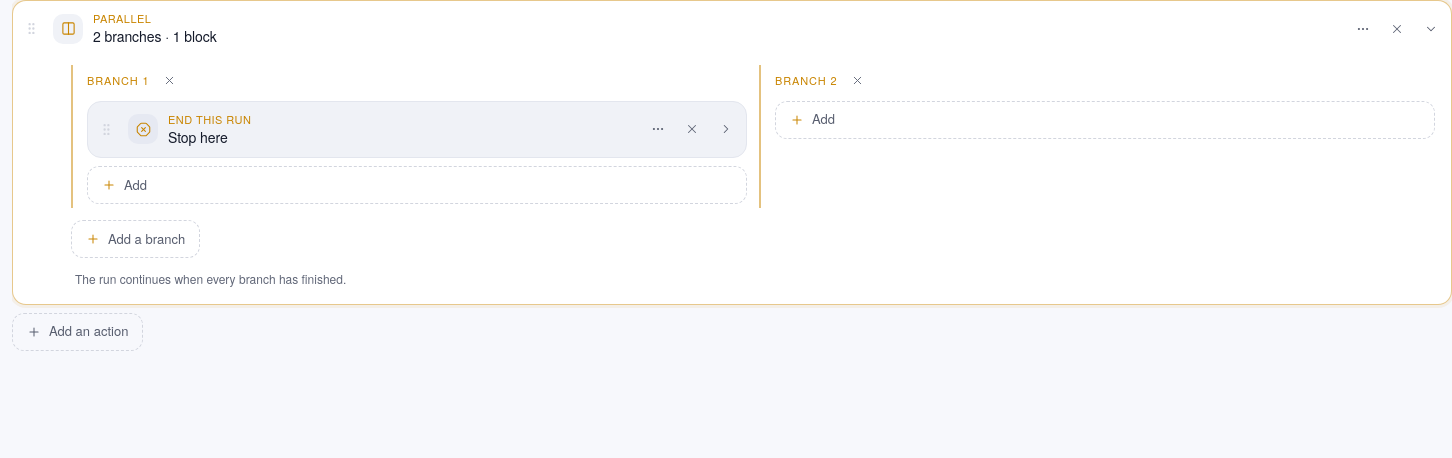
Test case: the blocks that hold others › gives a parallel block a branch, each its own list
Click the button "Add a branch" at (136, 239), box [71,220,200,258]
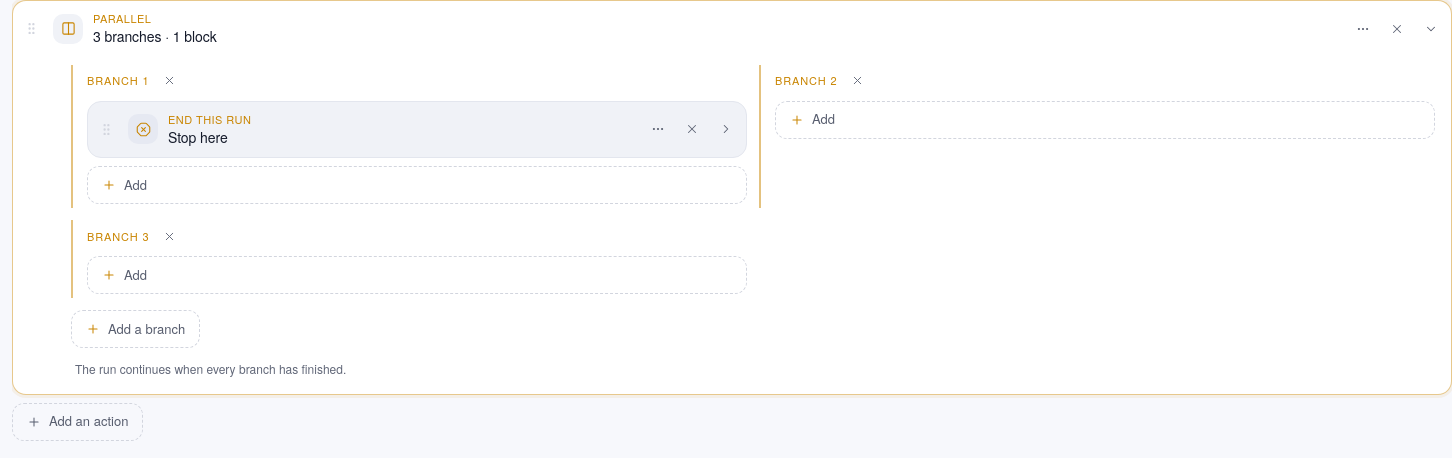
Result: the text "Branch 3" is shown at [87,229,150,243]
